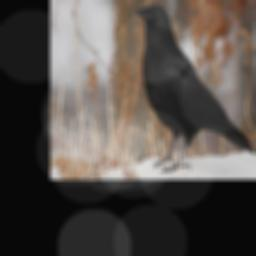Crow: (133, 0, 256, 174)
